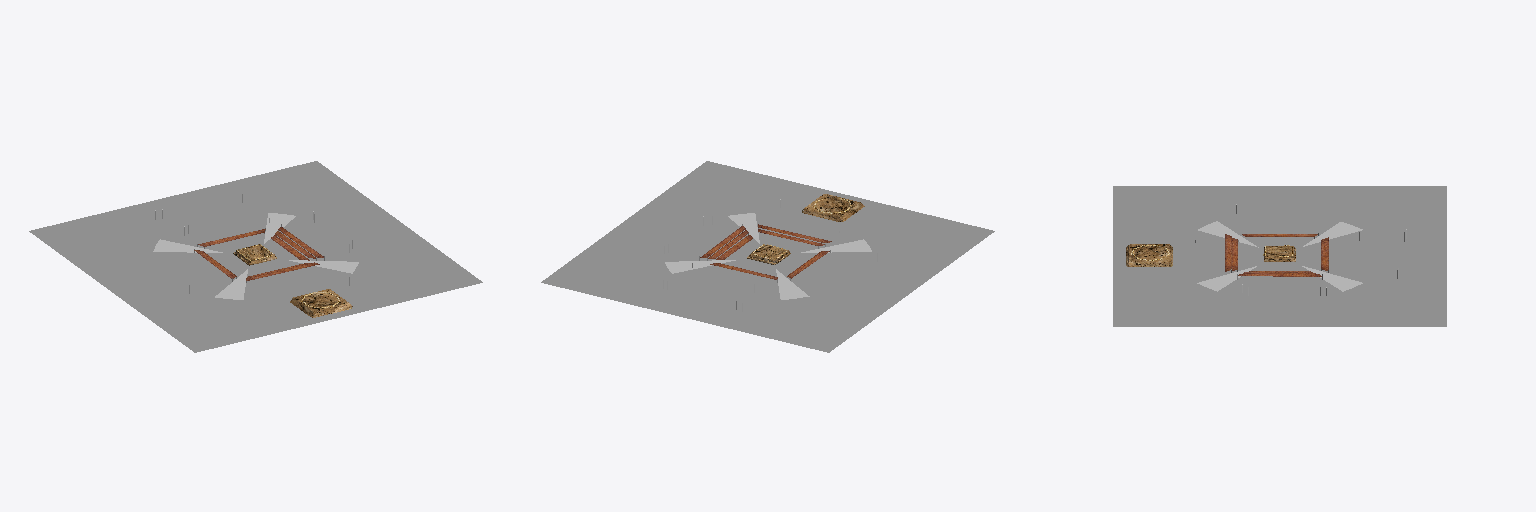
3 renders of one model, left to right at view 1: azimuth 30°, elevation 25°; view 2: azimuth 150°, elevation 25°; view 3: azimuth 270°, elevation 25°, orthographic.
Visible parts, largest first — view 1: floor_Plane, Plane.001; view 2: floor_Plane, Plane.001; view 3: floor_Plane, Plane.001.
Boxes of the visible parts, x1=… form: floor_Plane: x1=29, y1=161, x2=482, y2=352; Plane.001: x1=290, y1=289, x2=352, y2=317; floor_Plane: x1=541, y1=161, x2=994, y2=352; Plane.001: x1=802, y1=194, x2=864, y2=221; floor_Plane: x1=1113, y1=186, x2=1446, y2=326; Plane.001: x1=1126, y1=244, x2=1172, y2=266.
Size of the model in its own units: 15.96 by 0.918 by 15.96.
12 materials, 3 textured.